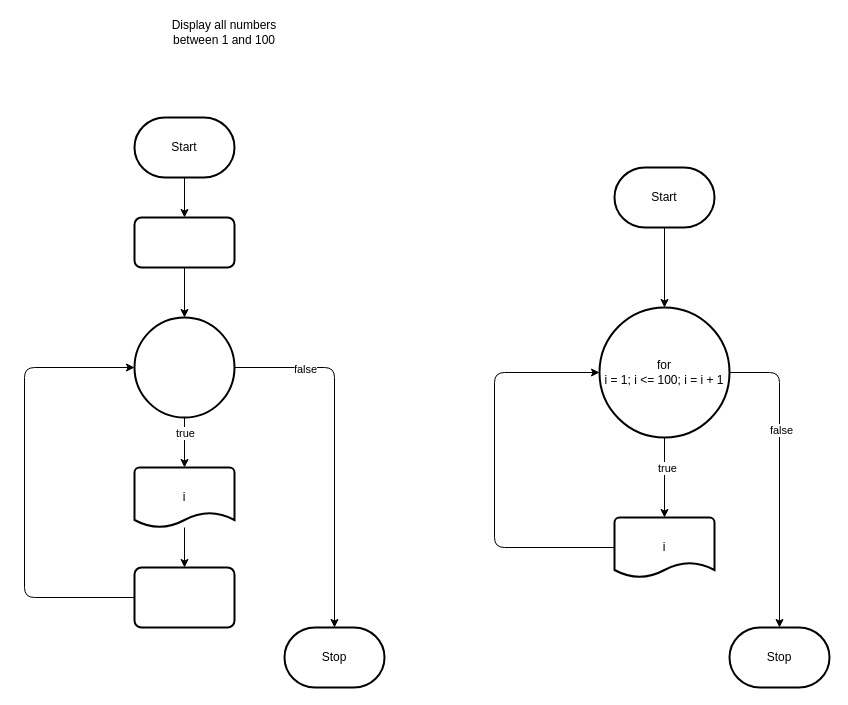
This 848x705 diagram has some shape labels left out. The shapes that lost their labels are listed below. From the top down, each one's centre as x and y in pixels, then its label:
At [184,242]: "i = 1".
At [184,367]: "while i <= 100".
At [184,597]: "i = i +1".
